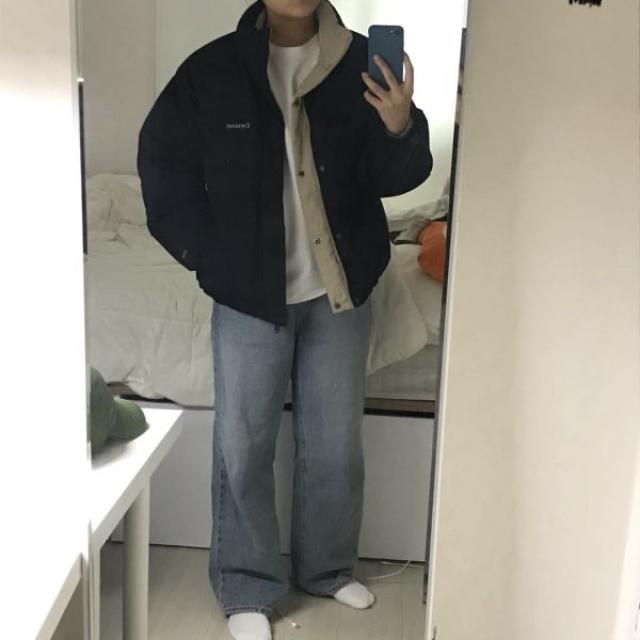denimpants: (210, 296, 373, 619)
padding: (136, 0, 432, 317)
